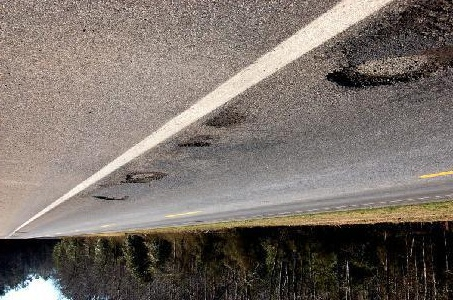pothole: (326, 52, 438, 90), (205, 108, 249, 130), (121, 169, 168, 185), (175, 134, 214, 149), (93, 193, 130, 203)
